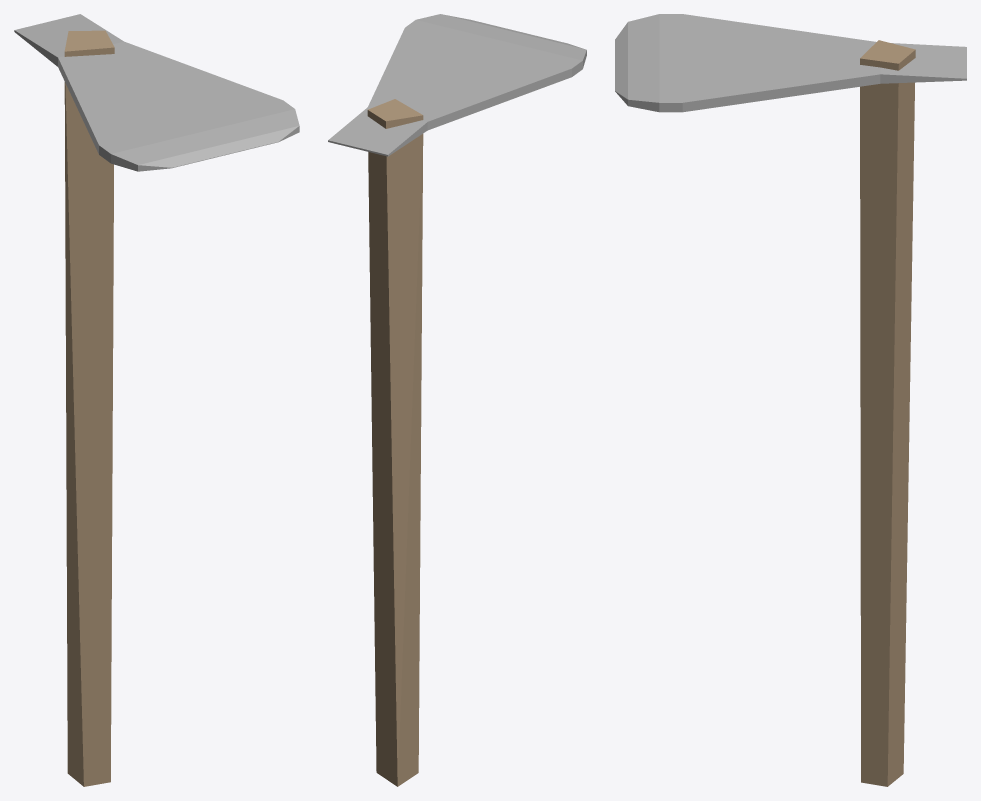
The model's file is IronHoe.glb.
3 renders of one model, left to right at view 1: azimuth 30°, elevation 25°; view 2: azimuth 150°, elevation 25°; view 3: azimuth 270°, elevation 25°, orthographic. The views are drawn at different scales.
Visible parts, largest first — view 1: Cylinder.010, Cube.020; view 2: Cylinder.010, Cube.020; view 3: Cylinder.010, Cube.020.
Boxes of the visible parts, left/top/right/bottom form: Cylinder.010: left=64, top=30, right=114, bottom=786; Cube.020: left=14, top=14, right=299, bottom=171; Cylinder.010: left=367, top=99, right=423, bottom=786; Cube.020: left=328, top=14, right=586, bottom=156; Cylinder.010: left=860, top=40, right=915, bottom=786; Cube.020: left=615, top=14, right=966, bottom=112.
Size of the model in its own units: 0.2362 by 0.902 by 0.3952.
